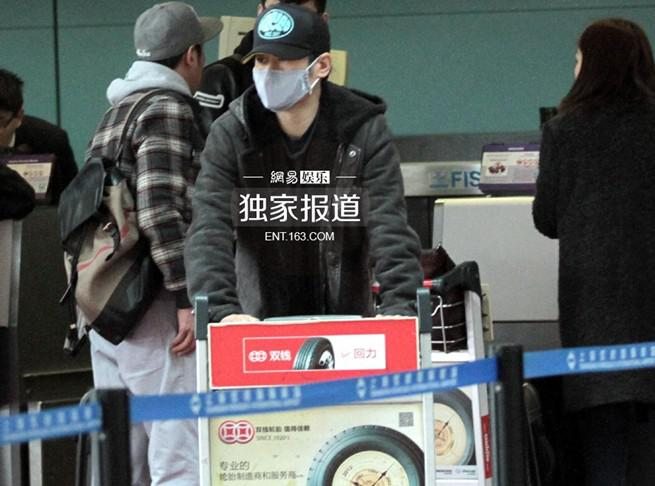OK: (252, 46, 312, 106)
